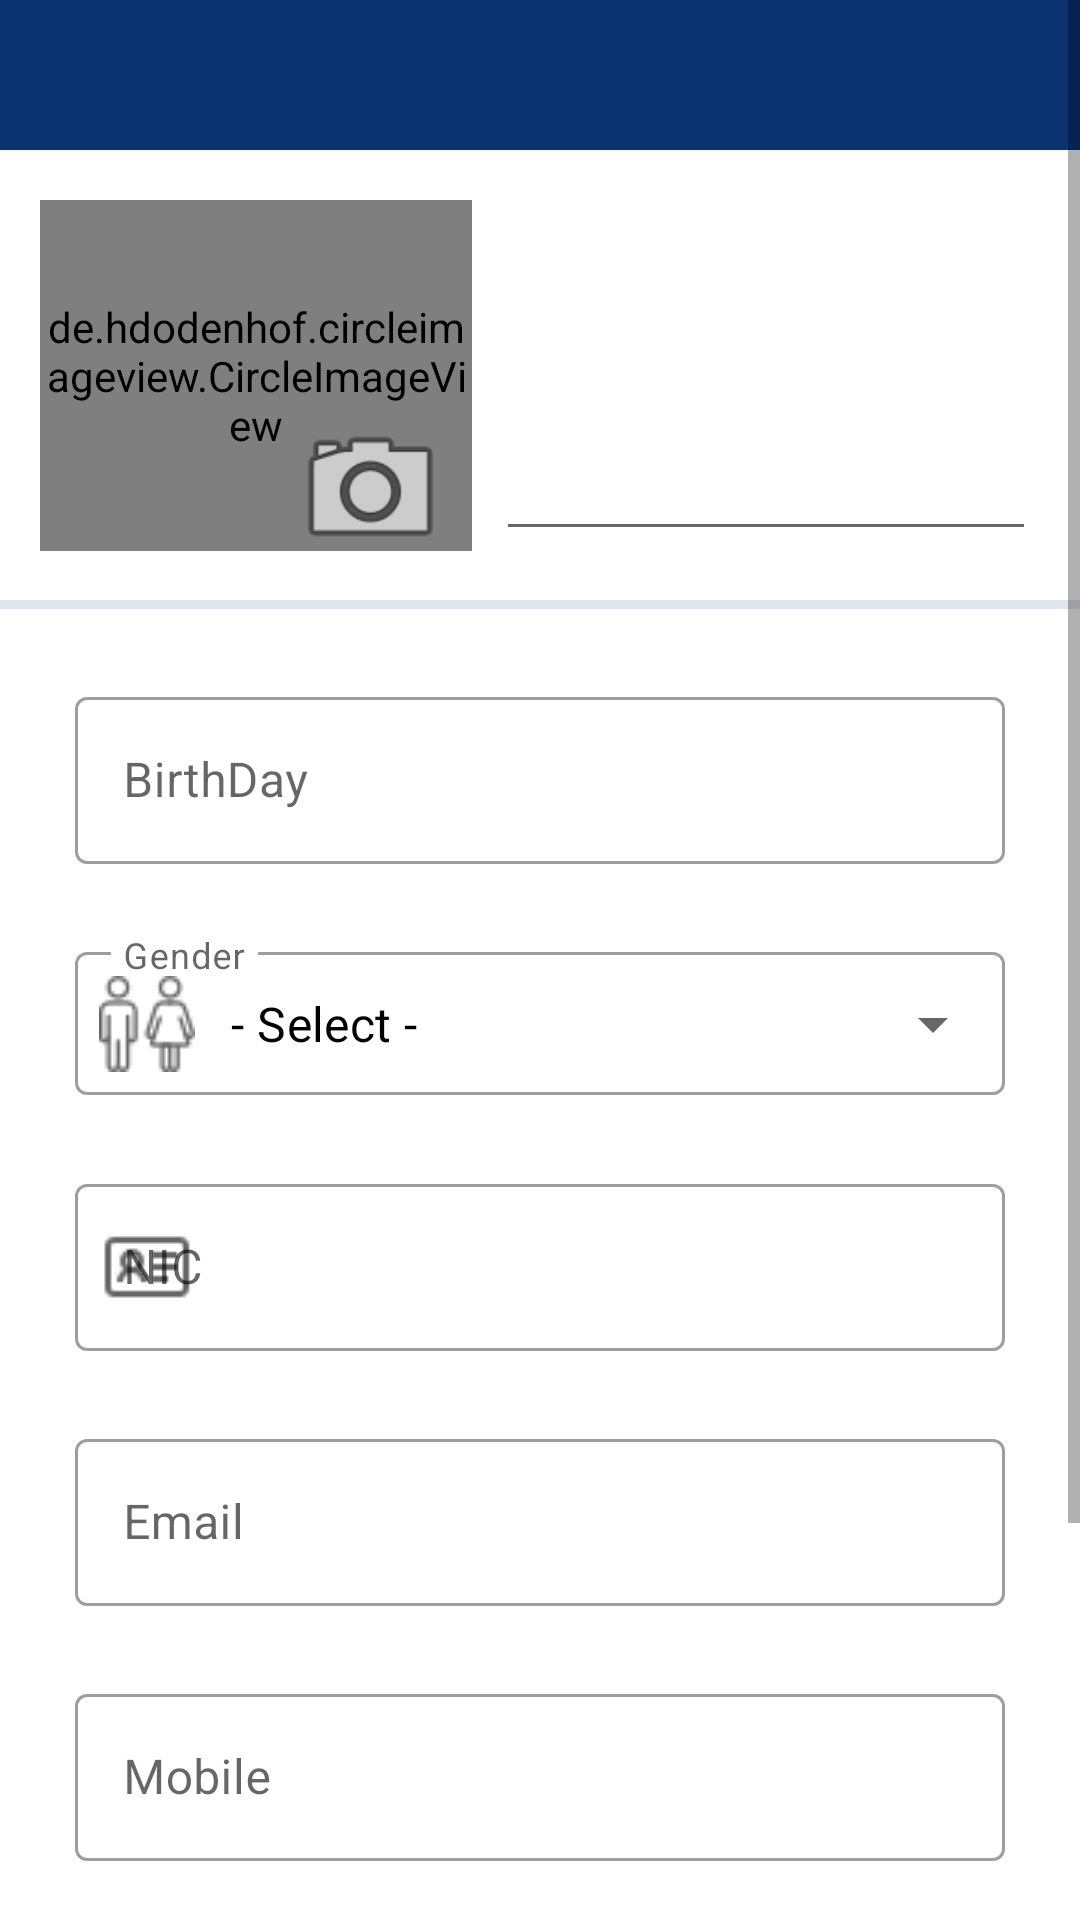

Named icons in this screenshot (1080*1920) and their bounding boxes, (x1, y1, x2, y2):
camera: (308, 437, 433, 536)
